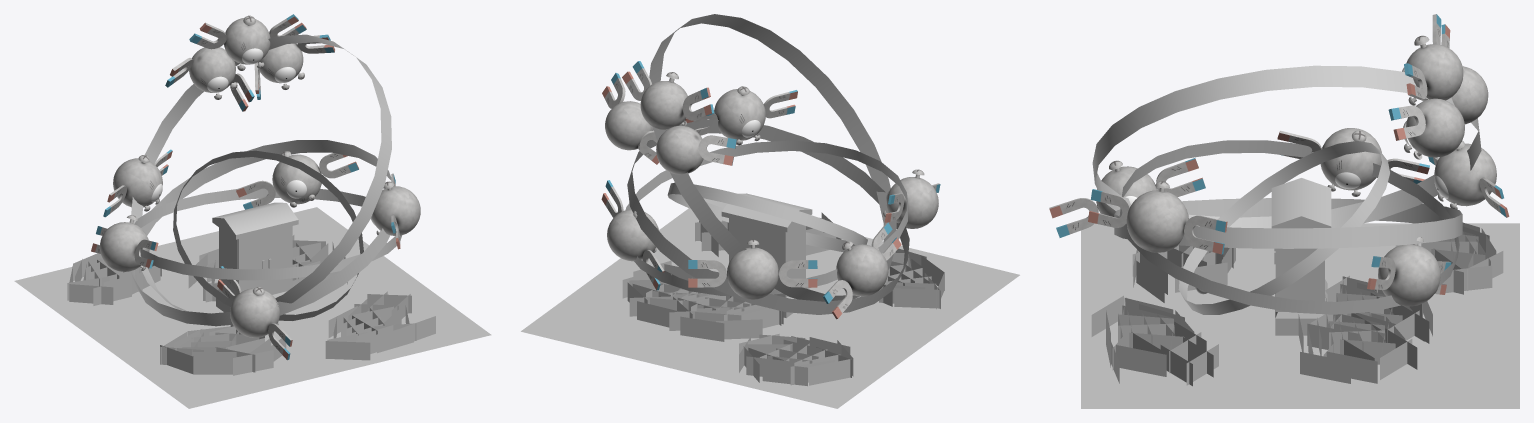
Rendered from Magnemite.fbx.
The picture shows the model from 3 angles, left to right: view 1: azimuth 30°, elevation 25°; view 2: azimuth 150°, elevation 25°; view 3: azimuth 270°, elevation 25°; orthographic projection. The views are drawn at different scales.
Parts seen in each view (by area): view 1: Plane002, Magneton, Cylinder001, Cylinder003, Props, Cylinder004, Magnemite004, Magnemite003, Cylinder002, Magnemite001, Magnemite005, Magnemite002 (+7 smaller); view 2: Plane002, Magneton, Cylinder003, Cylinder001, Cylinder004, Magnemite001, Props, Magnemite005, Cylinder002, Magnemite002, Magnemite004, Magnemite003 (+7 smaller); view 3: Plane002, Cylinder003, Magneton, Cylinder001, Cylinder004, Cylinder002, Props, Magnemite002, Magnemite004, Magnemite005, Magnemite001, Magnemite003 (+19 smaller).
Part boxes in pixels (box(x1,y1,x2,y2)): Plane002: box(14, 207, 491, 408); Magneton: box(165, 14, 334, 111); Cylinder001: box(131, 140, 391, 326); Cylinder003: box(131, 34, 391, 311); Props: box(212, 202, 298, 312); Cylinder004: box(134, 188, 401, 280); Magnemite004: box(235, 151, 358, 209); Magnemite003: box(217, 266, 292, 360); Cylinder002: box(173, 150, 363, 320); Magnemite001: box(103, 149, 172, 217); Magnemite005: box(91, 215, 158, 271); Magnemite002: box(371, 173, 420, 249); Plane002: box(521, 198, 1019, 408); Magneton: box(602, 61, 736, 174); Cylinder003: box(649, 14, 896, 301); Cylinder001: box(627, 120, 909, 314); Cylinder004: box(625, 140, 907, 296); Magnemite001: box(688, 239, 817, 299); Props: box(721, 193, 812, 317); Magnemite005: box(823, 222, 901, 319); Cylinder002: box(667, 182, 867, 251); Magnemite002: box(685, 86, 797, 145); Magnemite004: box(601, 180, 664, 290); Magnemite003: box(883, 169, 940, 228); Plane002: box(1081, 223, 1519, 408); Cylinder003: box(1092, 65, 1481, 228); Magneton: box(1388, 14, 1488, 159); Cylinder001: box(1114, 198, 1462, 248); Cylinder004: box(1119, 140, 1459, 314); Cylinder002: box(1178, 141, 1389, 314); Props: box(1271, 178, 1331, 335); Magnemite002: box(1088, 181, 1227, 254); Magnemite004: box(1367, 237, 1451, 306); Magnemite005: box(1277, 128, 1429, 196); Magnemite001: box(1428, 140, 1509, 217); Magnemite003: box(1049, 158, 1205, 237).
Size of the model in its own units: 700 by 543 by 751.
